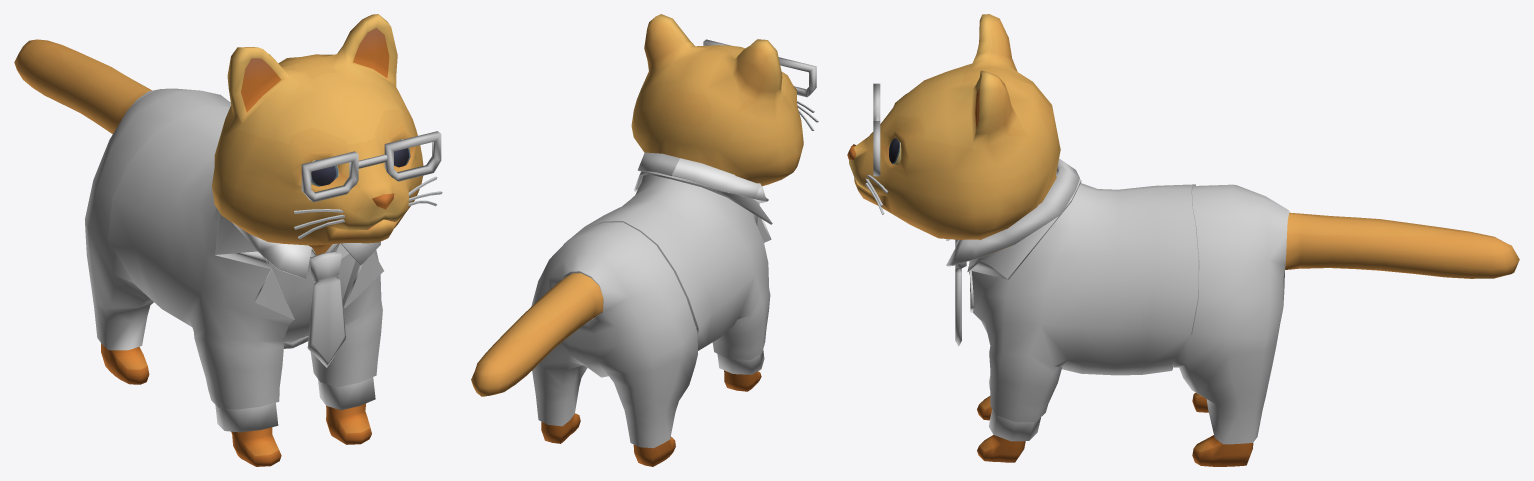
Rendered from COB Cat.obj.
The picture shows the model from 3 angles, left to right: view 1: azimuth 30°, elevation 25°; view 2: azimuth 150°, elevation 25°; view 3: azimuth 270°, elevation 25°; orthographic projection. The views are drawn at different scales.
Visible parts, largest first — view 1: Clothes, Cat001, Object002; view 2: Clothes, Cat001, Object002; view 3: Clothes, Cat001.
Part boxes in pixels (left/top/right/bottom): Clothes: left=85, top=88, right=441, bottom=432; Cat001: left=14, top=14, right=442, bottom=466; Object002: left=232, top=222, right=316, bottom=278; Clothes: left=531, top=39, right=816, bottom=448; Cat001: left=471, top=14, right=818, bottom=466; Object002: left=672, top=158, right=768, bottom=203; Clothes: left=873, top=83, right=1289, bottom=444; Cat001: left=847, top=14, right=1519, bottom=466.
Size of the model in its own units: 70.69 by 146 by 227.
